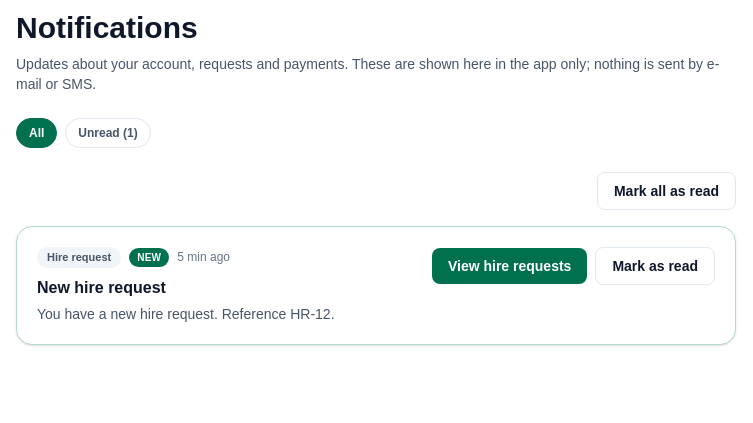
Test case: notifications page › a refused change shows nothing as read and says nothing was changed
Click the button "Mark as read" at [655, 266], box [595,247,715,285]
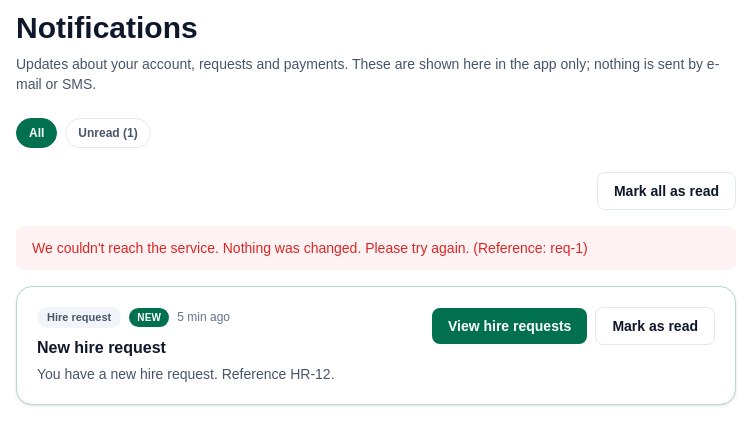
Expected: the button "Mark as read" is enabled, [595,307,715,345]
Expected: the message shows "Nothing was changed", [32,240,588,256]
